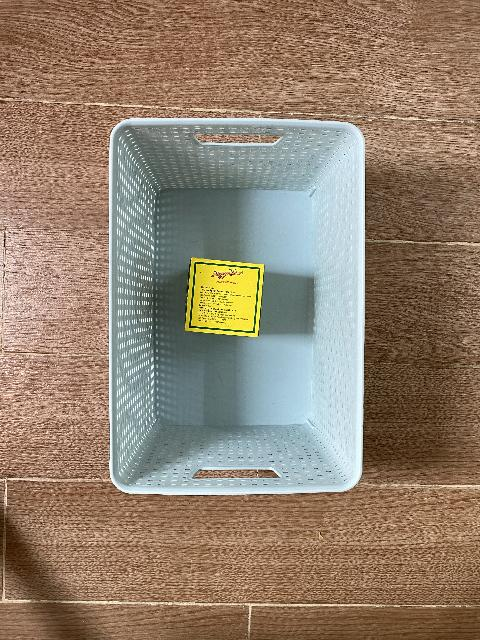cart: (108, 117, 366, 497)
luong_kho: (185, 257, 265, 337)
